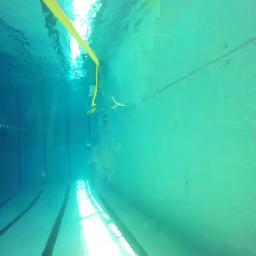Full: (98, 119, 110, 123), (86, 144, 92, 148)
